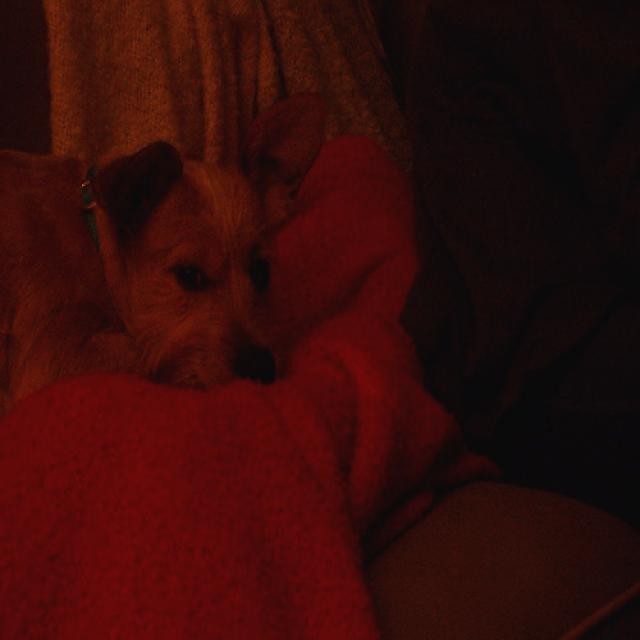Dog: (0, 89, 328, 428)
